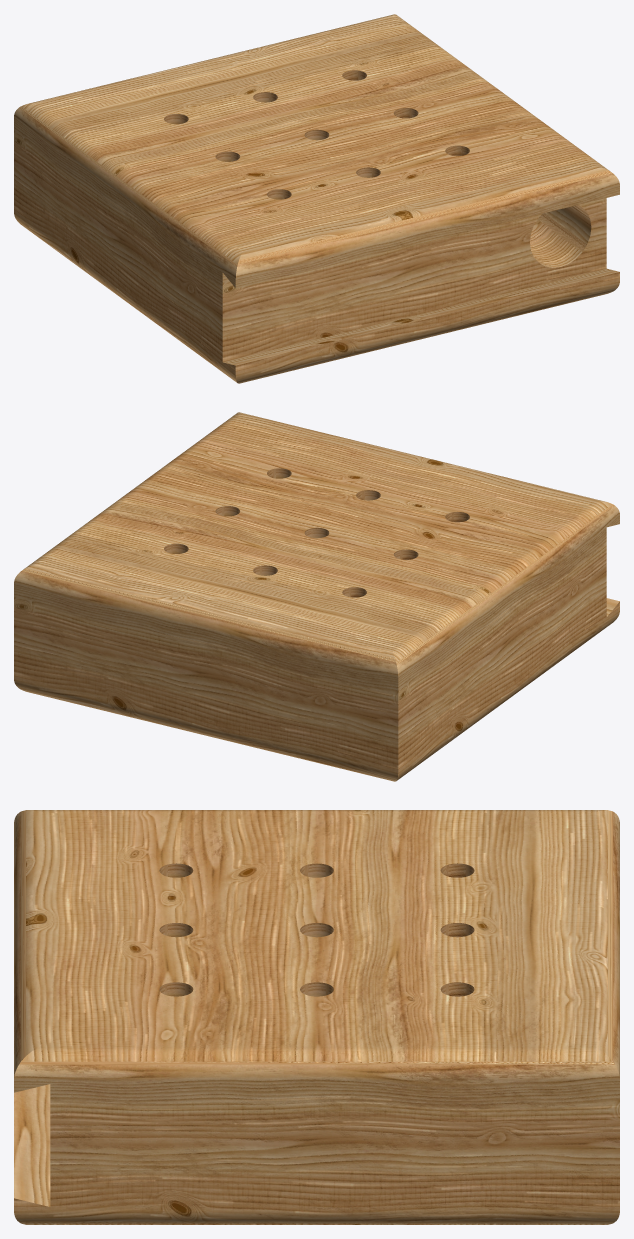
Rendered from nine_hole_peg_board.glb.
3 views of the same model, one above another, from view 1: azimuth 30°, elevation 25°; view 2: azimuth 150°, elevation 25°; view 3: azimuth 270°, elevation 25° (orthographic). The views are drawn at different scales.
Parts seen in each view (by area): view 1: SM_Base_NineHole; view 2: SM_Base_NineHole; view 3: SM_Base_NineHole.
Part boxes in pixels (bbox=[...]): SM_Base_NineHole: bbox=[14, 14, 619, 383]; SM_Base_NineHole: bbox=[14, 412, 619, 781]; SM_Base_NineHole: bbox=[14, 810, 619, 1224].
Size of the model in its own units: 0.125 by 0.0398 by 0.125.
Materials: 1 (1 with a texture image).
